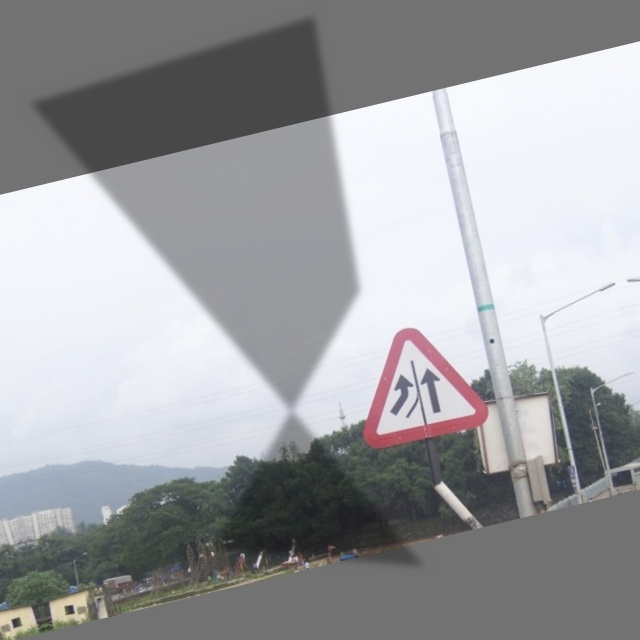Merge_Traffic_Ahead: (340, 313, 499, 459)
